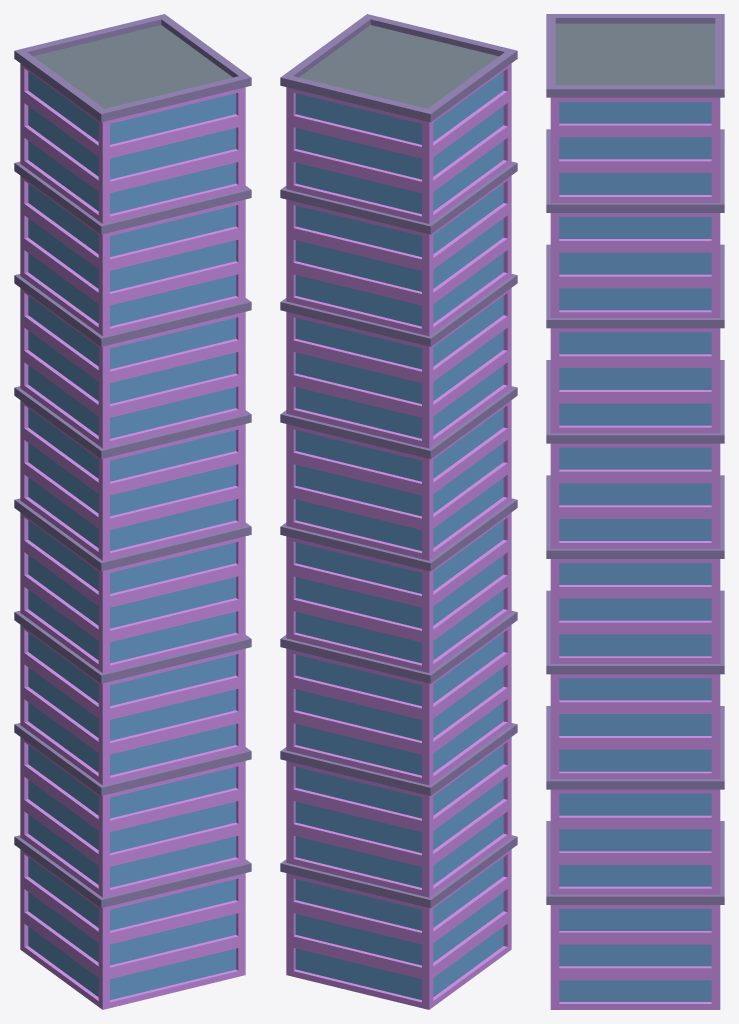
3 views of the same model, side by side, from view 1: azimuth 30°, elevation 25°; view 2: azimuth 150°, elevation 25°; view 3: azimuth 270°, elevation 25° (orthographic). The views are drawn at different scales.
Visible parts, largest first — view 1: b2; view 2: b2; view 3: b2.
Part boxes in pixels (x1=…): b2: x1=14, y1=14, x2=251, y2=1009; b2: x1=280, y1=14, x2=517, y2=1009; b2: x1=546, y1=14, x2=724, y2=1009.
Size of the model in its own units: 420 by 2400 by 420.
1 material, 1 textured.
